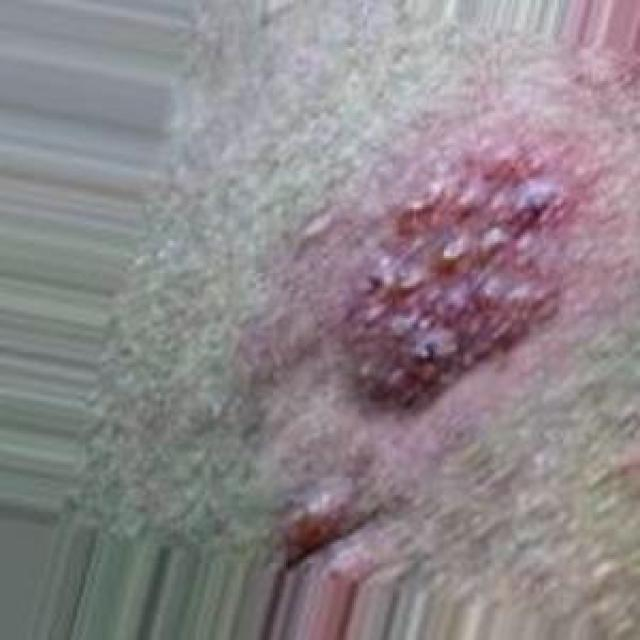Shingles: (344, 140, 566, 397)
